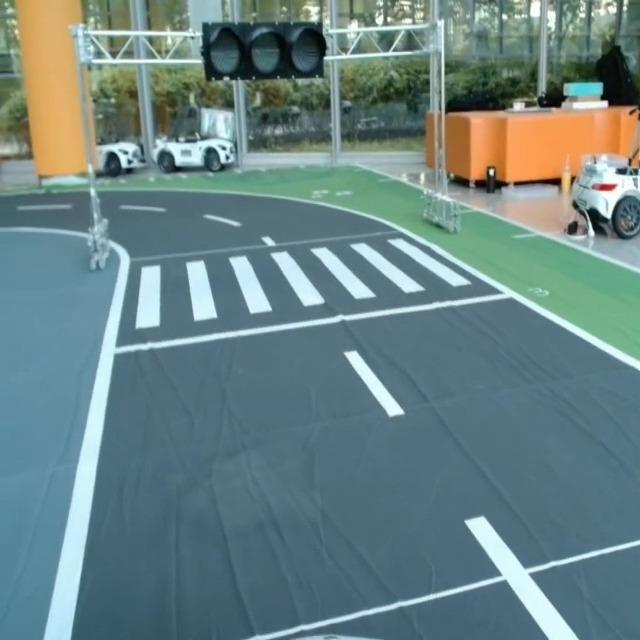traffic-light: (198, 19, 334, 84)
